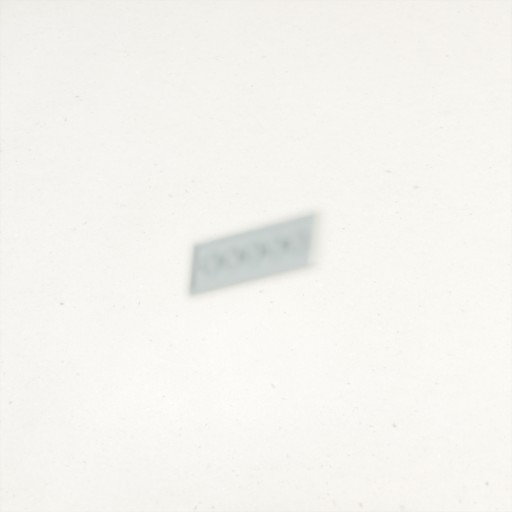lego: (184, 207, 327, 300)
